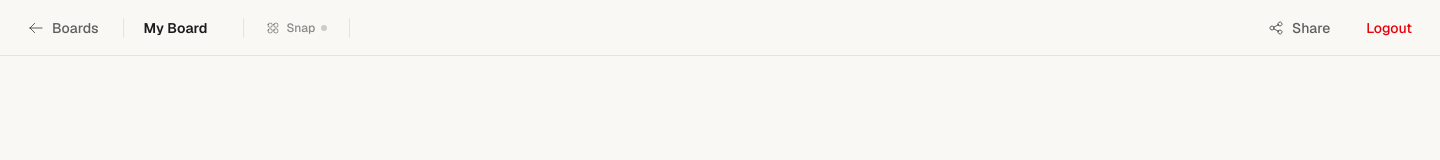
Test: BoardTopBar › owner can rename board: Enter saves
Double-click the button "My Board" at (184, 28), box [136, 14, 231, 42]
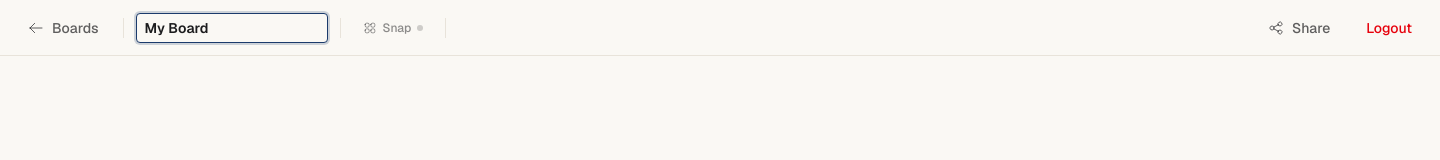
Replace the text in the field showing "My Board" with "New Name" at (232, 28), box [136, 12, 328, 42]
Then press Enter
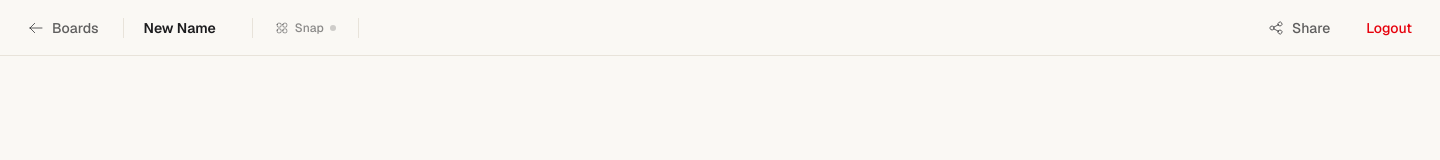
Now the button "New Name" is shown, box [136, 14, 240, 42]
